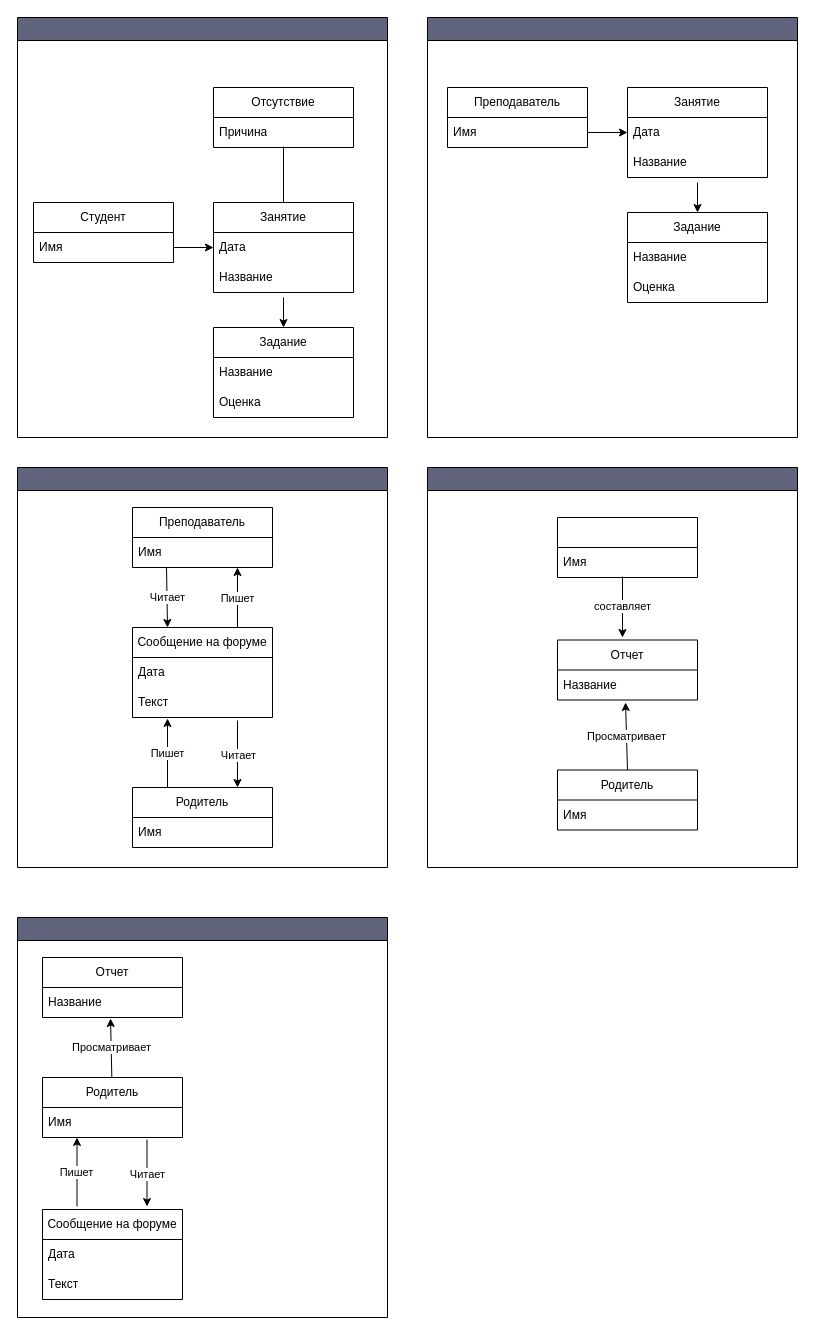
Some shapes in this 815 by 1335 pixel diagram are drawn without their labels. The shapes that lost their labels are listed below. From the top down, each one's box as (x1, y1, x2, y2) in pixels, then its label:
(16, 16, 388, 438): Контекст студента
(426, 16, 798, 438): Контекст преподавателя
(556, 516, 698, 578): Администратор
(16, 466, 388, 868): Контекст форума
(426, 466, 798, 868): Контекст отчетности
(16, 916, 388, 1318): Контекст родителя
